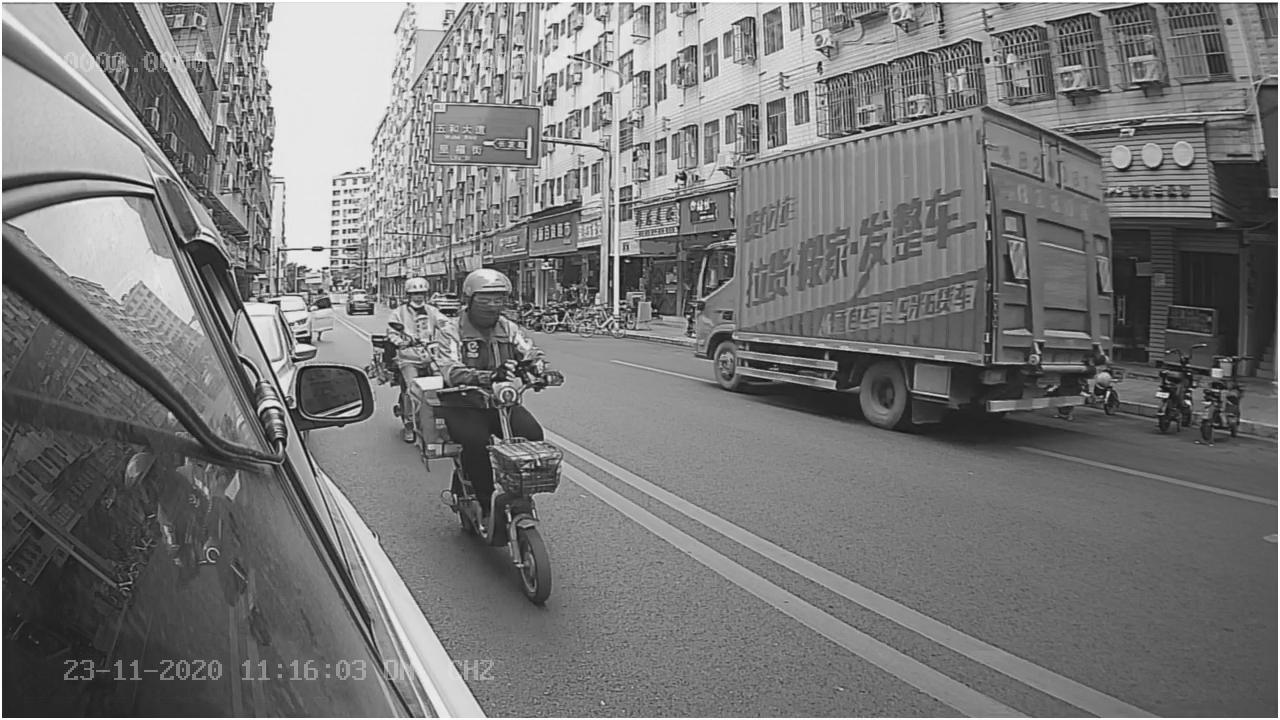person: (426, 263, 557, 365)
